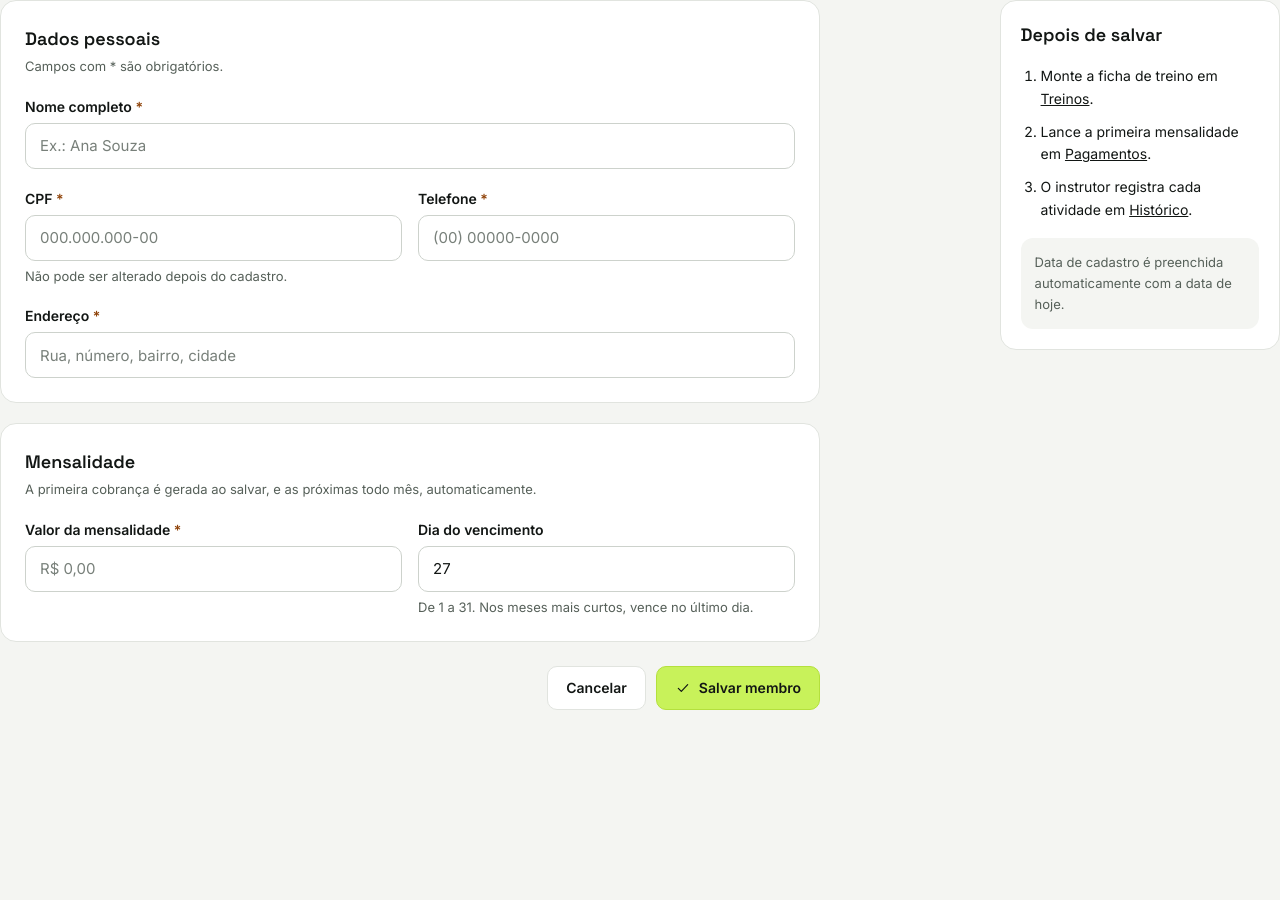
Test: NovoMembro › cadastra como ADMIN, mostra o aviso e vai para a lista
The width and height of the screenshot is (1280, 900).
In the field labelled "Nome completo": (410, 146) [25, 122, 795, 168], type "Ana Souza"
In the field labelled "CPF": (214, 238) [25, 214, 402, 260], type "52998224725"
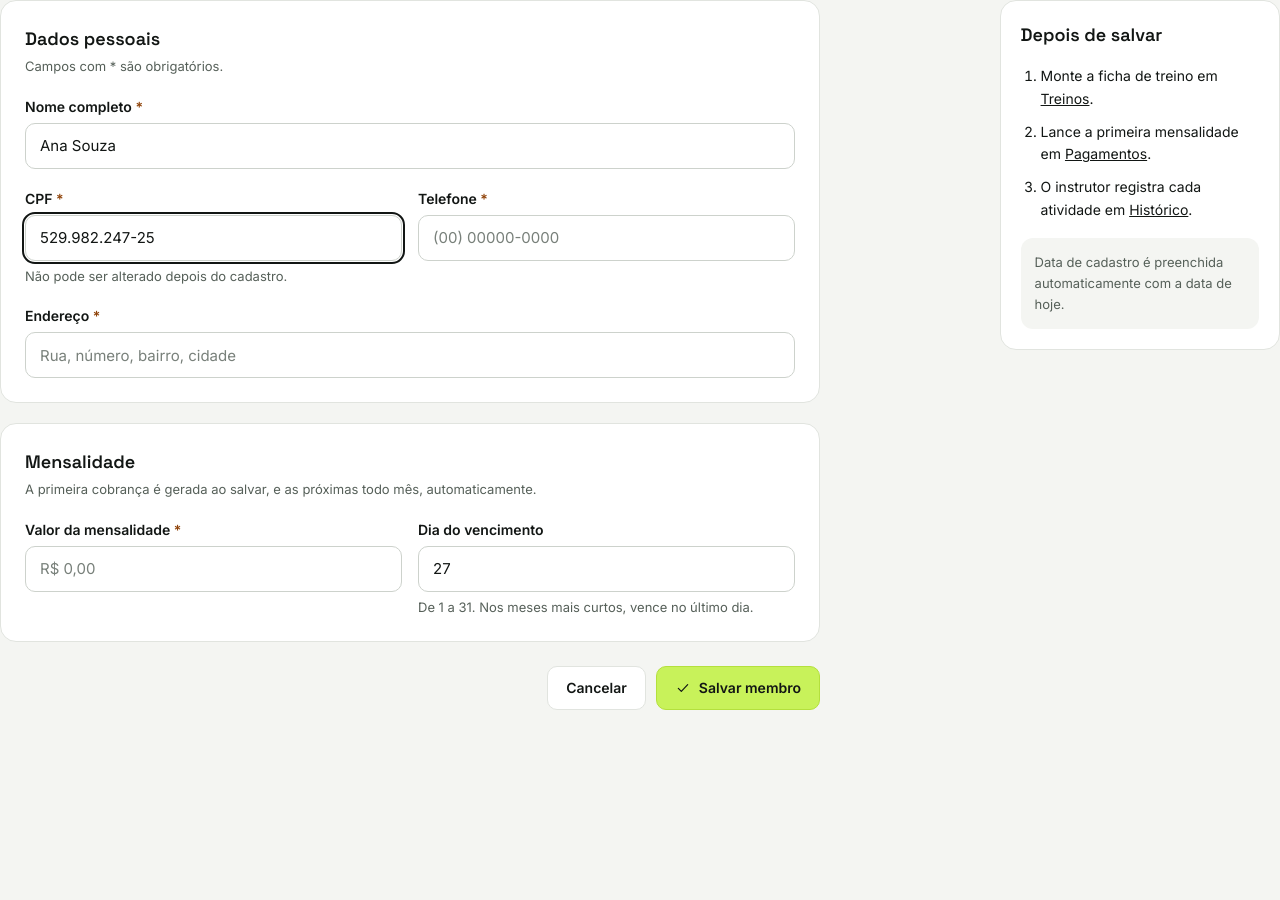
In the field labelled "Telefone": (606, 238) [418, 214, 795, 260], type "48999990000"
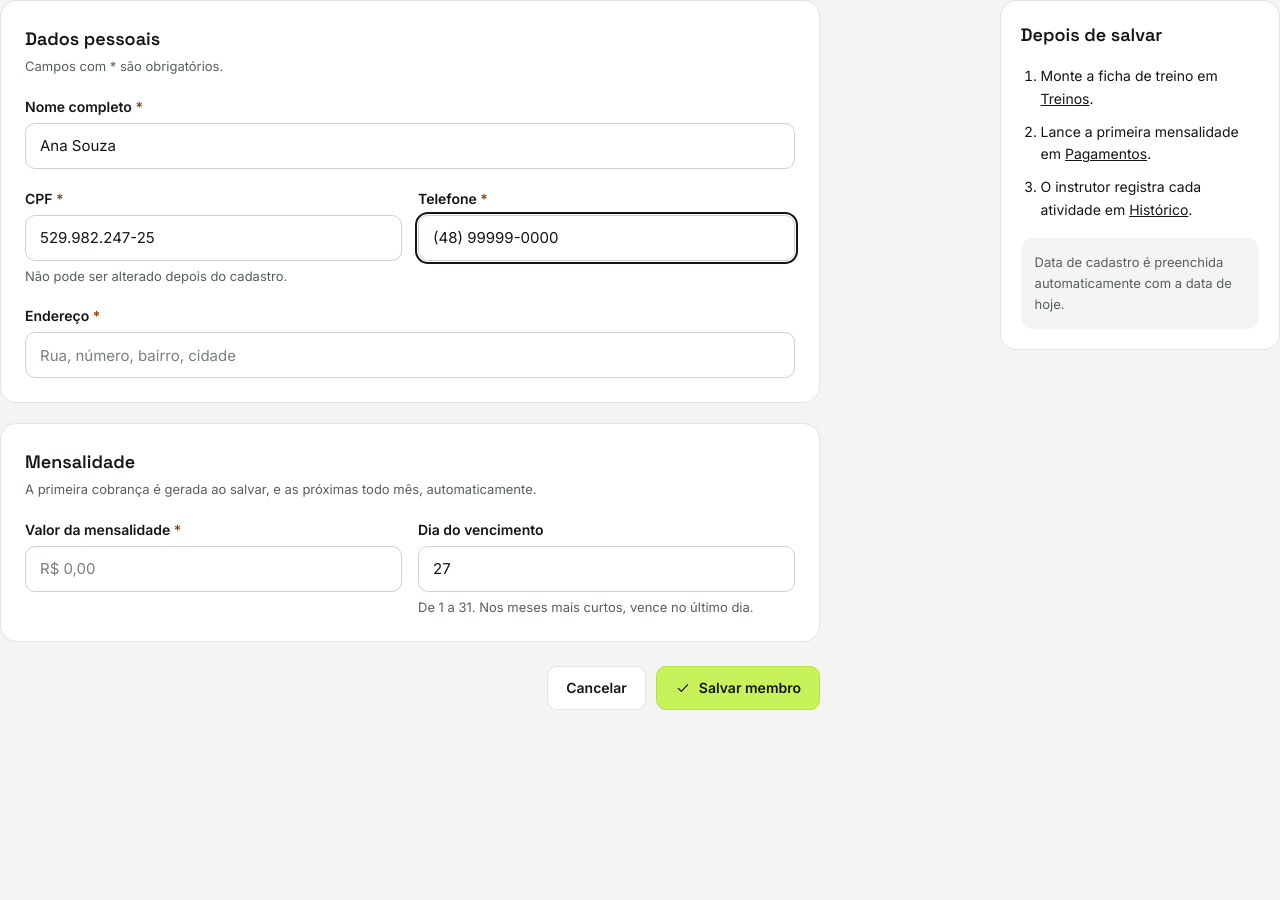
In the field labelled "Endereço": (410, 355) [25, 332, 795, 378], type "Rua Fictícia, 100"
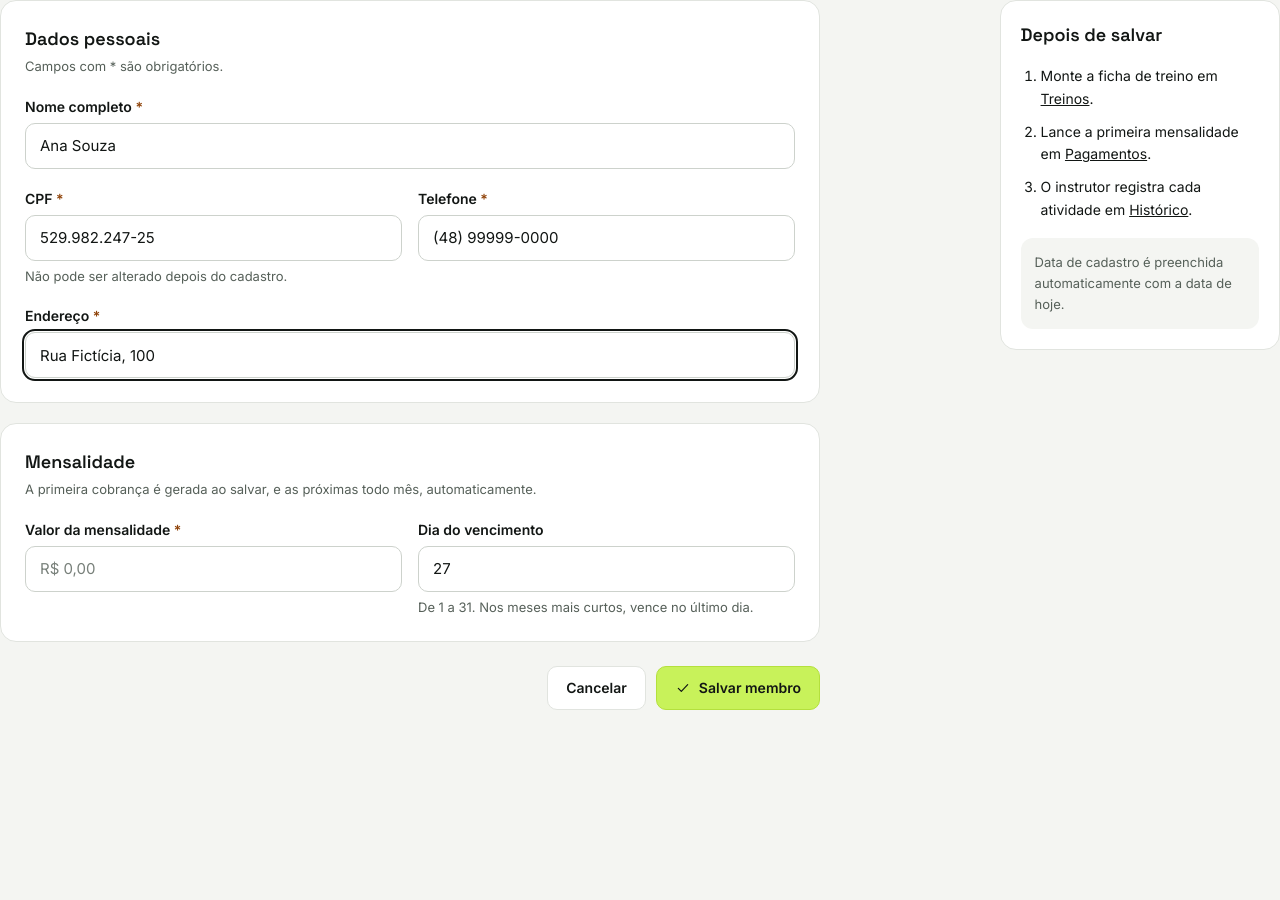
In the field labelled "Valor da mensalidade": (214, 568) [25, 546, 402, 592], type "12000"
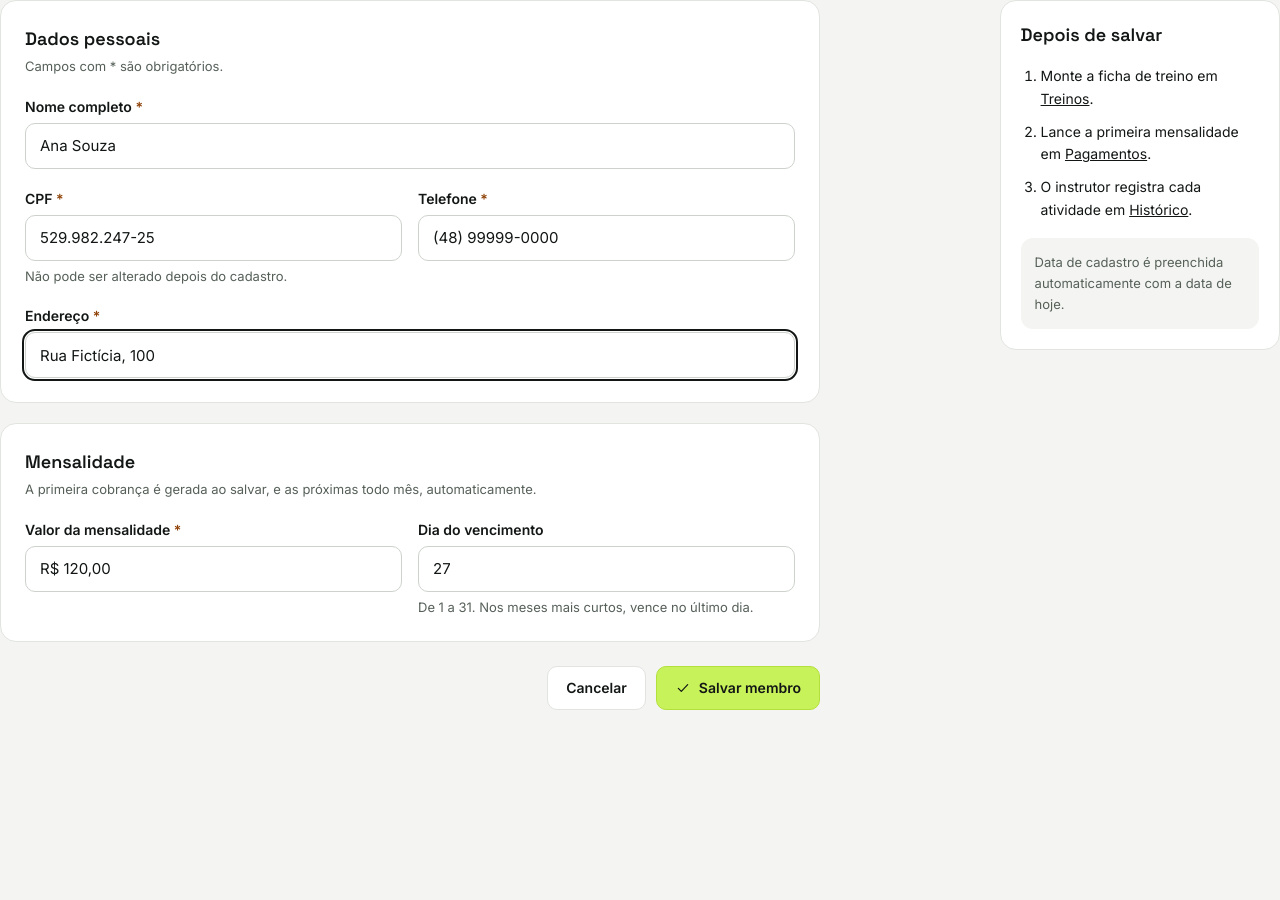
Replace the text in the number field labelled "Dia do vencimento" with "10": (606, 568) [418, 546, 795, 592]
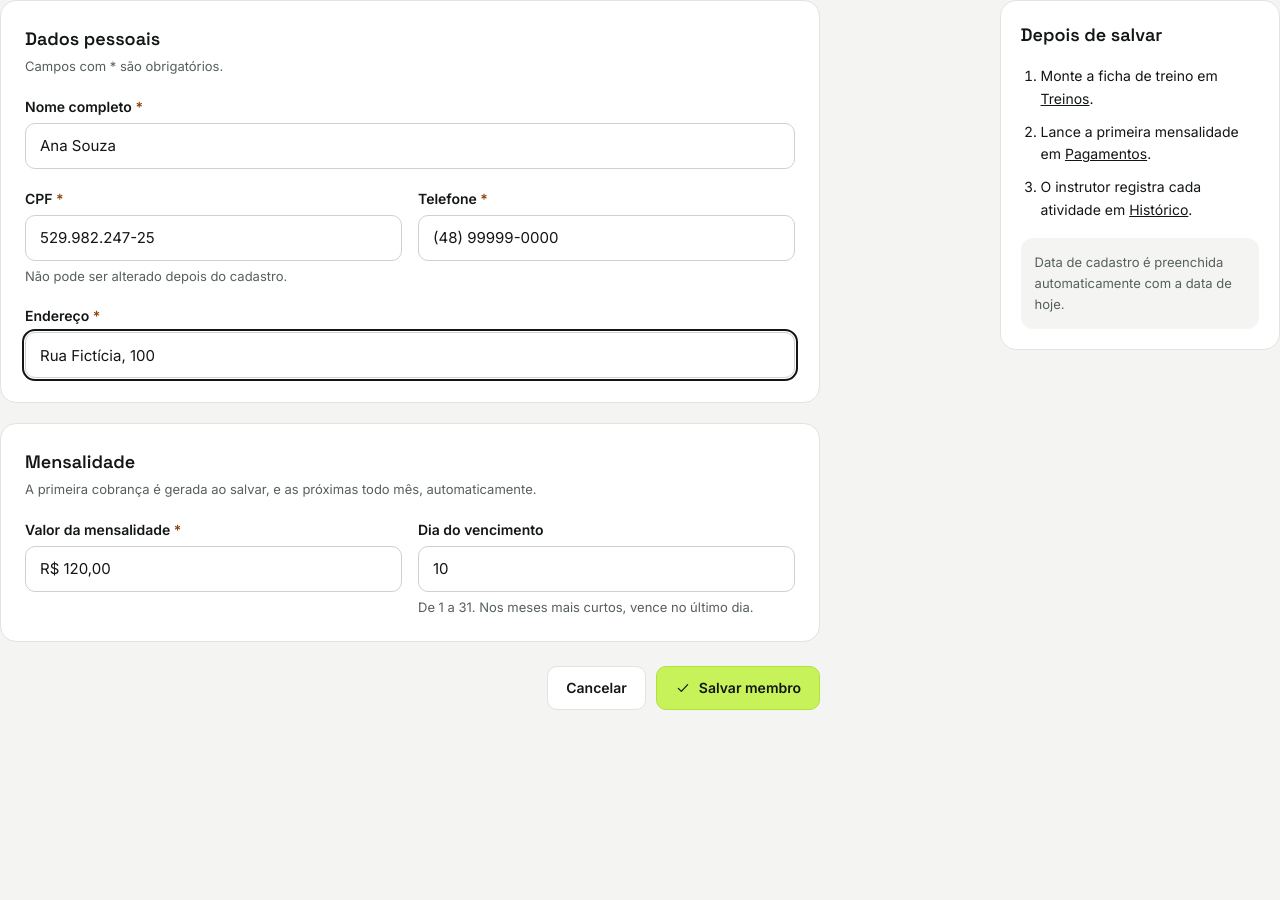
Click the button "Salvar membro": click(738, 688) [656, 666, 820, 710]
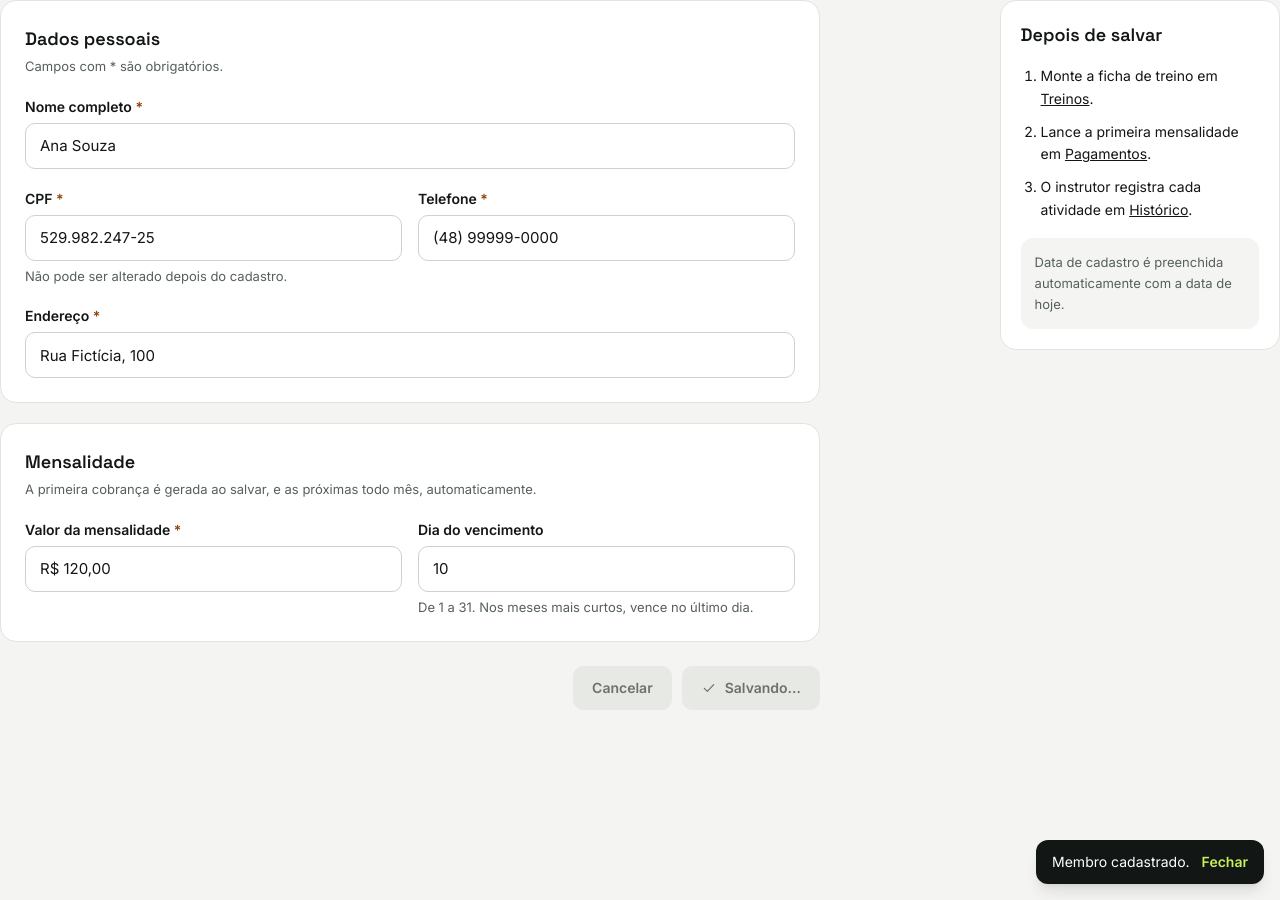
expect the text "Membro cadastrado." is shown: met, box [1052, 852, 1190, 872]
